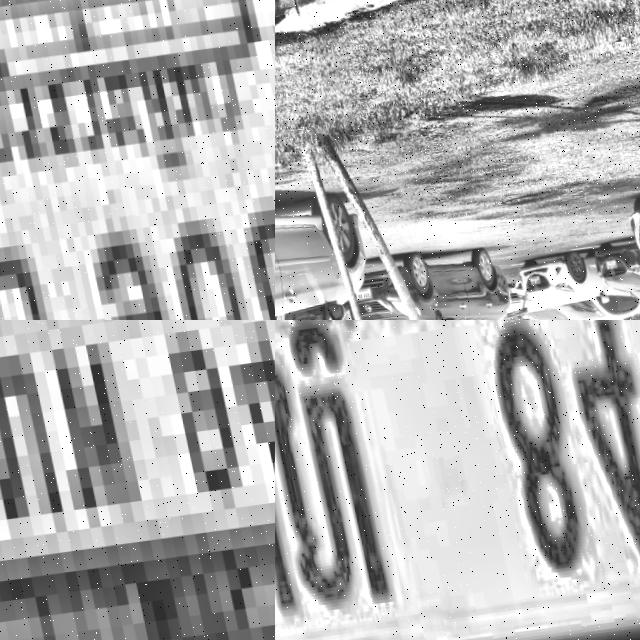license-plate: (275, 320, 640, 640), (0, 0, 275, 320), (0, 320, 275, 640), (347, 288, 366, 302), (597, 260, 611, 272), (521, 275, 535, 286)
